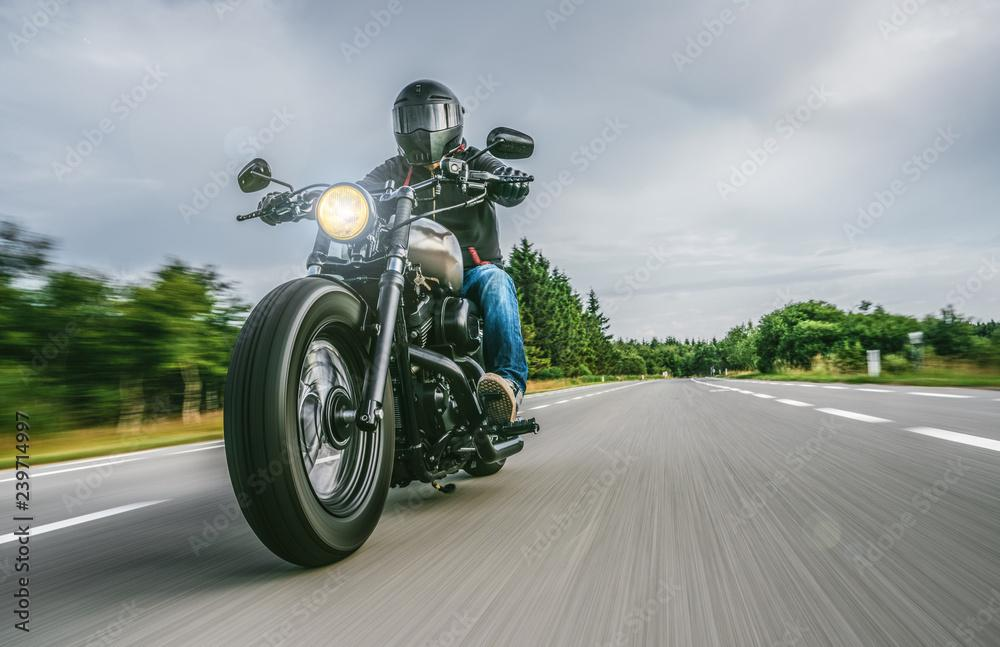helmet: (391, 78, 465, 168)
